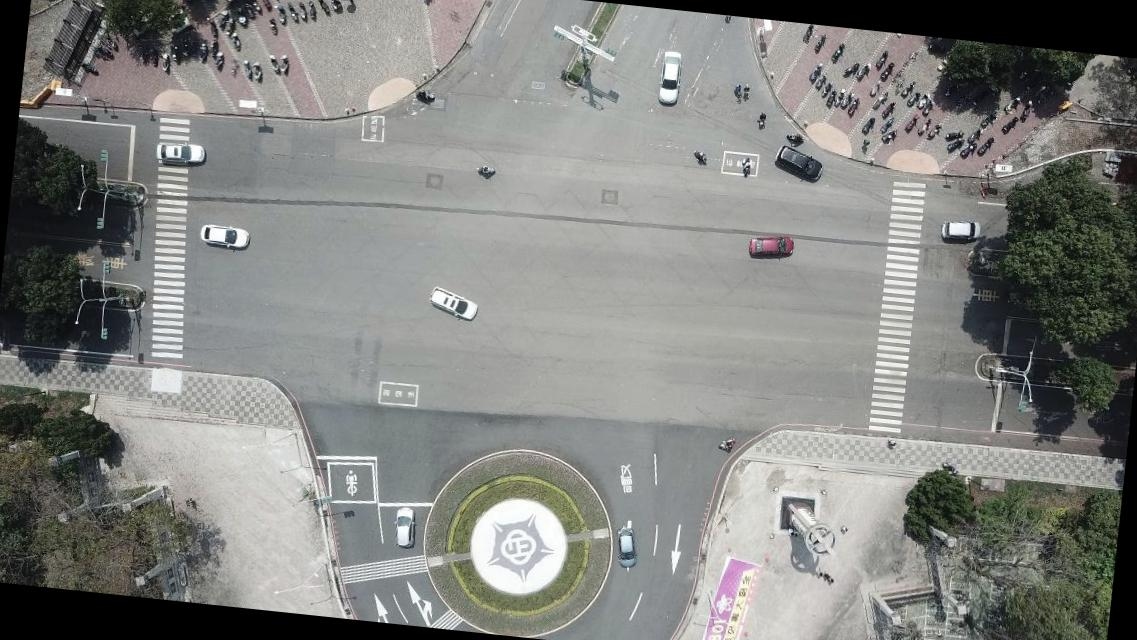vehicle: (770, 143, 826, 185), (426, 284, 480, 322), (656, 48, 685, 108), (197, 222, 251, 250), (747, 232, 796, 262), (154, 140, 208, 165), (390, 504, 419, 550), (612, 524, 640, 570), (938, 218, 984, 244)
